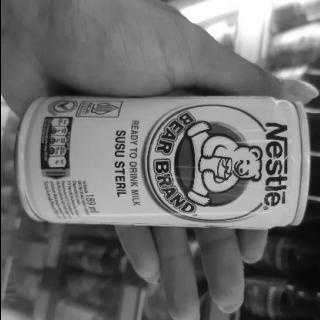alumunium_can: (8, 98, 316, 224)
